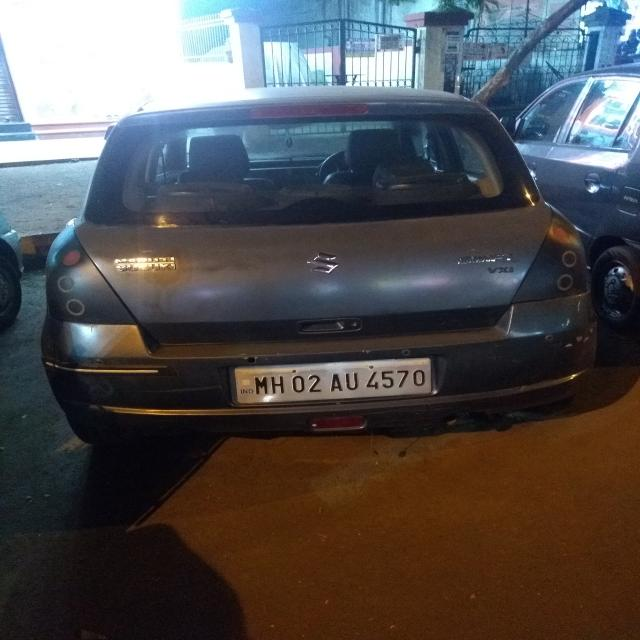Number-Plate: (230, 362, 428, 400)
